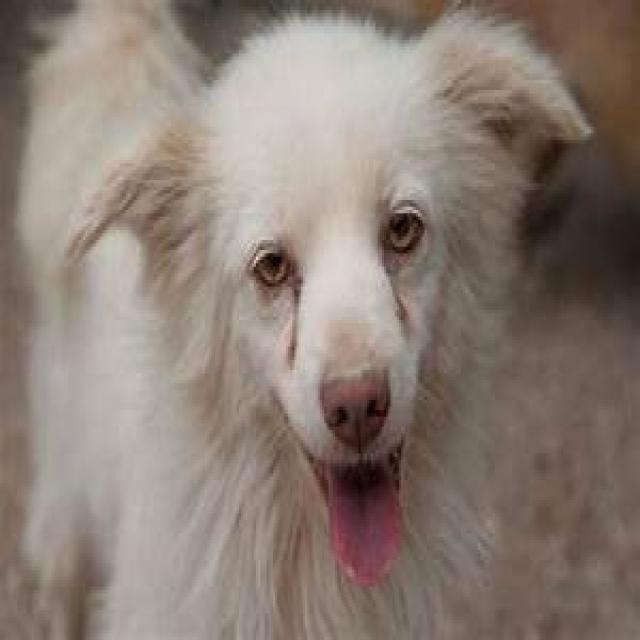dog: (0, 3, 595, 640)
